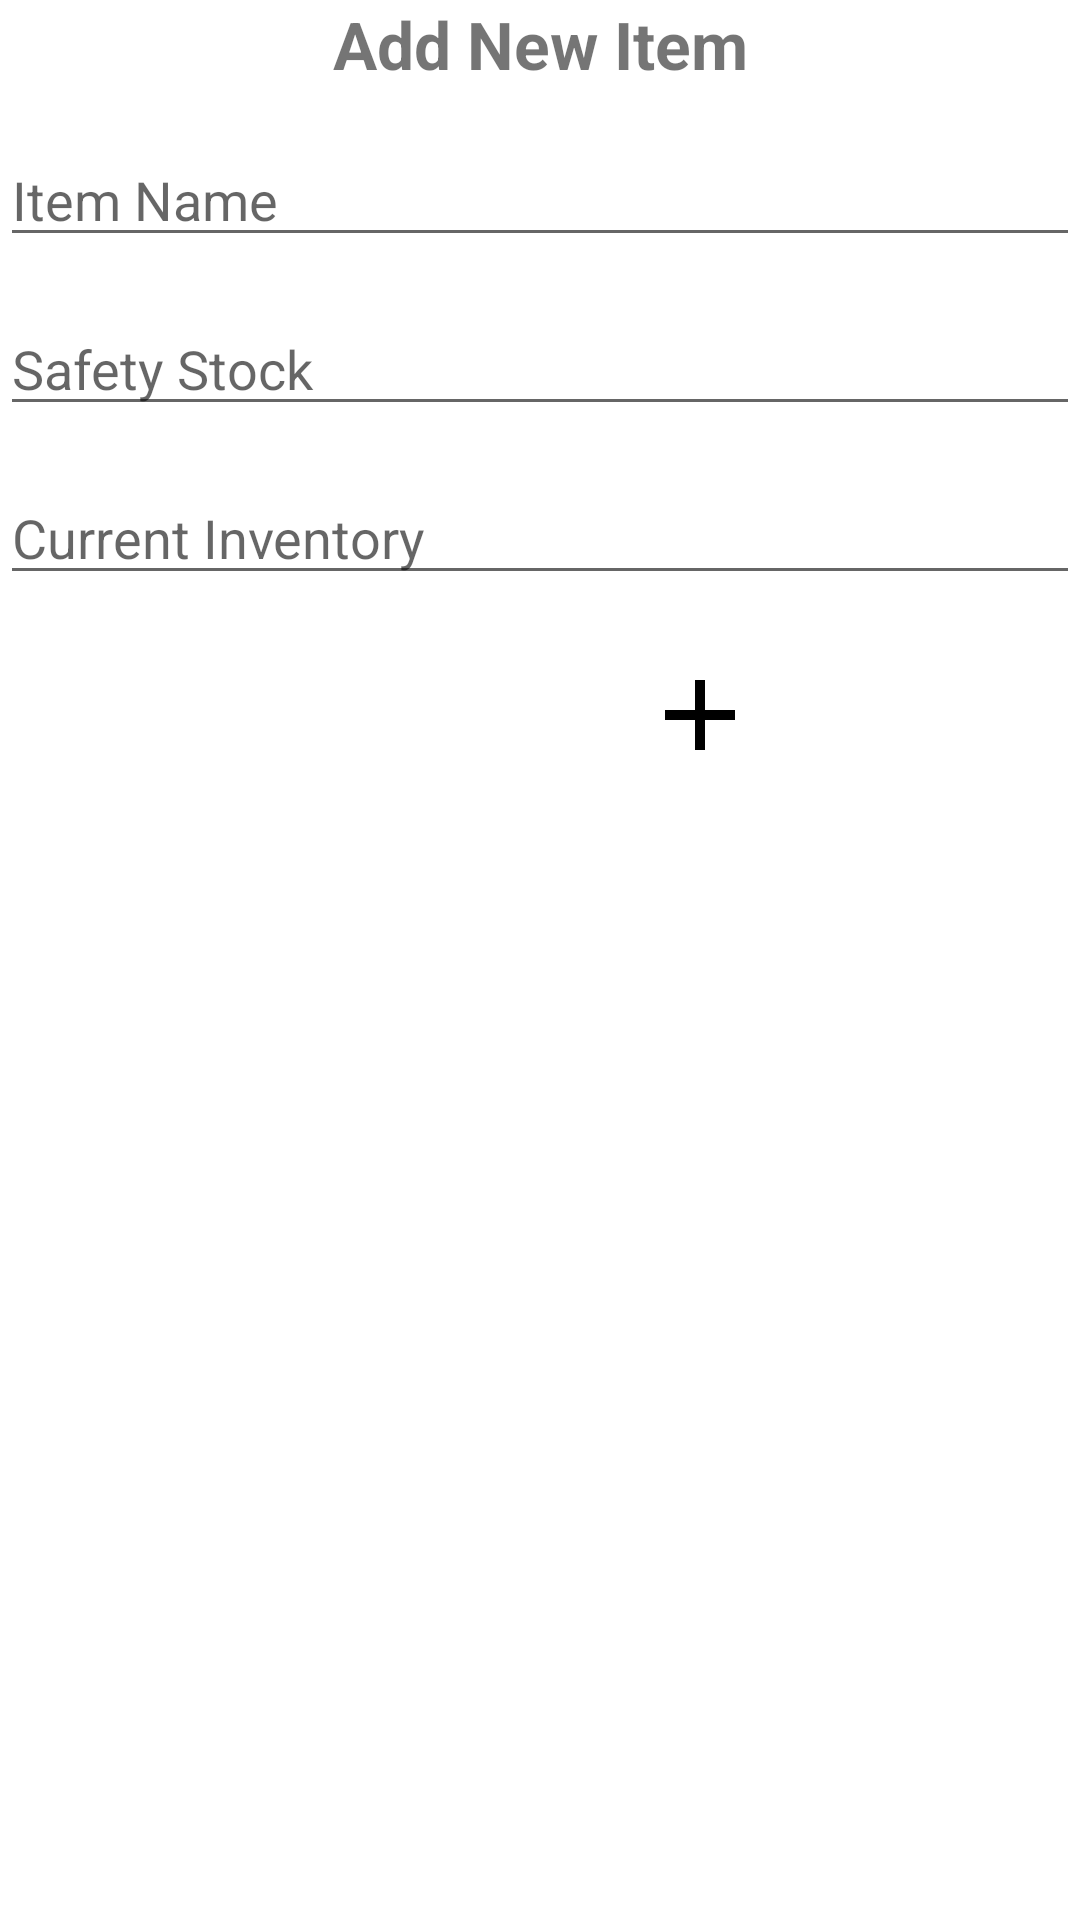

Named icons in this screenshot (1080×1920) and their centers, [x,y]:
add simple: [700,715]
